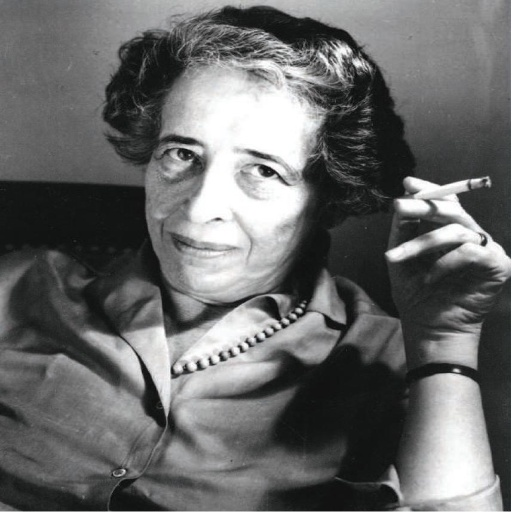hand: (362, 174, 494, 512)
